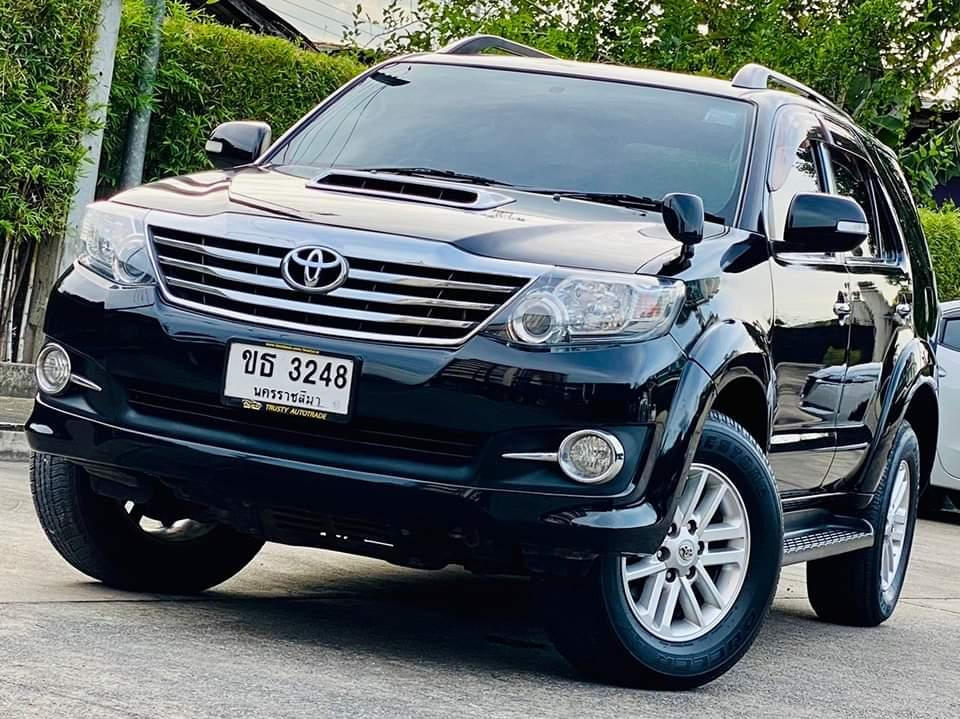license-plate: (216, 334, 365, 429)
